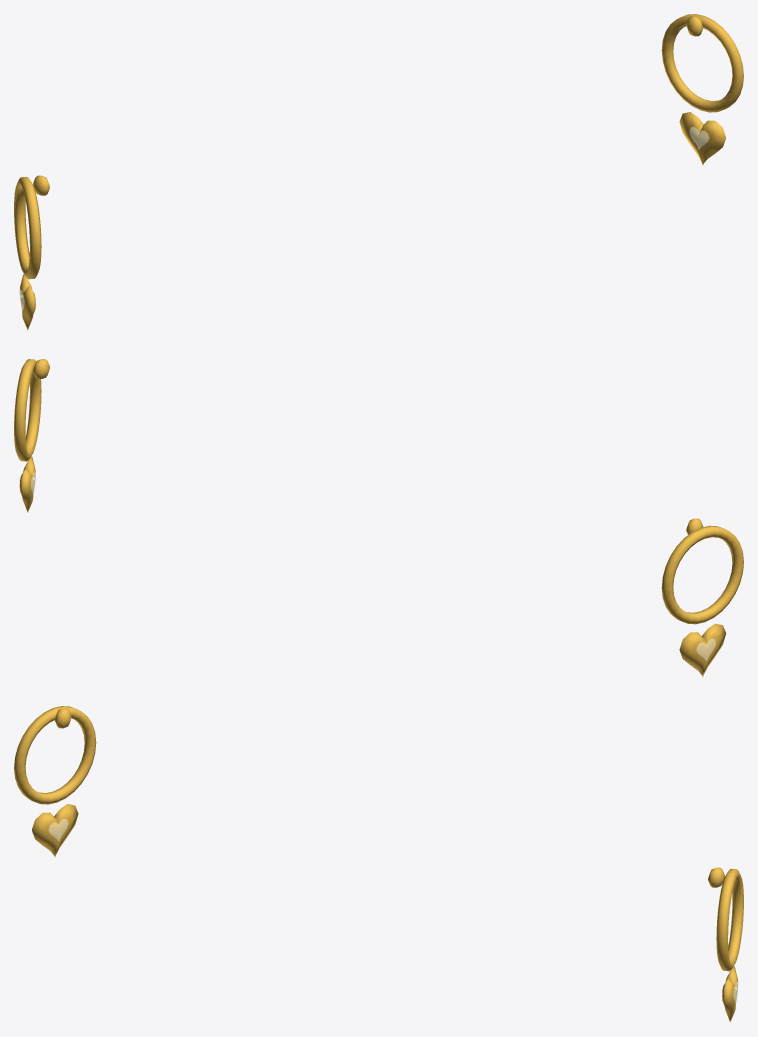
File: heart_hoops.glb
The picture shows the model from 3 angles, top to bottom: view 1: azimuth 30°, elevation 25°; view 2: azimuth 150°, elevation 25°; view 3: azimuth 330°, elevation 25°; orthographic projection.
Visible parts, largest first — view 1: heart_hoops; view 2: heart_hoops; view 3: heart_hoops.
Boxes of the visible parts, x1,y1,x2,y2 form: heart_hoops: [14, 14, 743, 330]; heart_hoops: [14, 359, 743, 677]; heart_hoops: [14, 706, 743, 1022].
Bounding box in the file's own units: 0.223 × 0.0463 × 0.0266.
